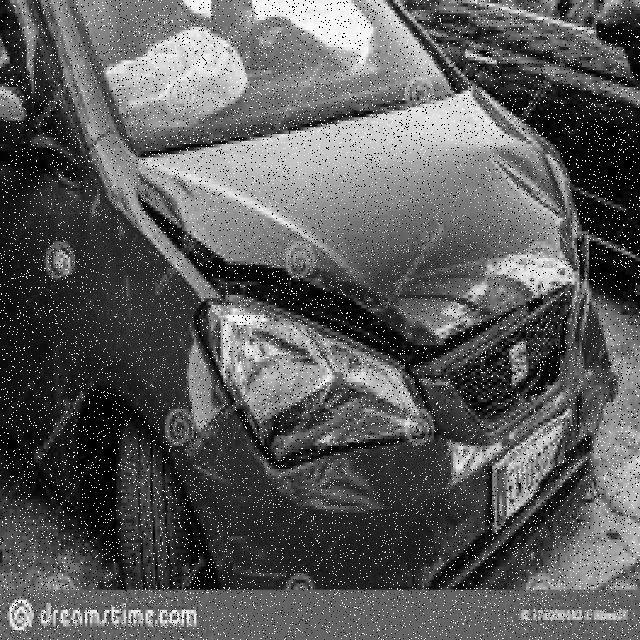bonnet-dent: (172, 100, 589, 351)
front-bumper-dent: (189, 443, 521, 590)
